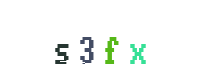3: (65, 0, 145, 80)
F: (70, 0, 150, 80)
S: (35, 0, 115, 80)
X: (82, 0, 162, 80)
